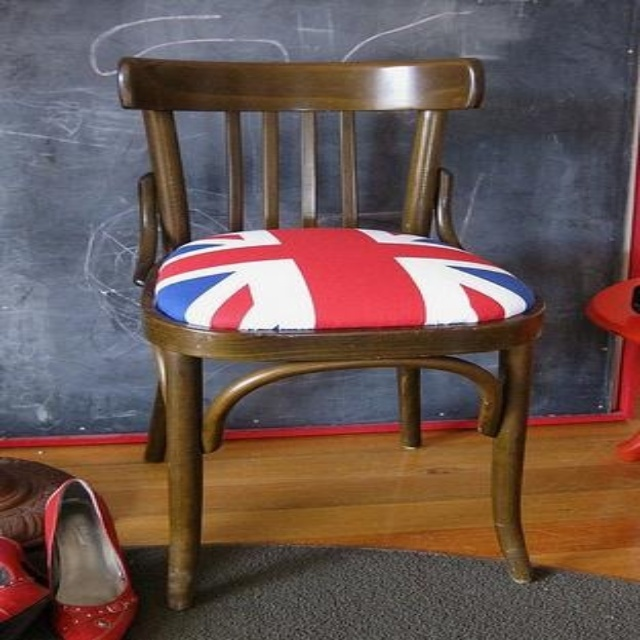obstacle: (119, 58, 542, 608)
